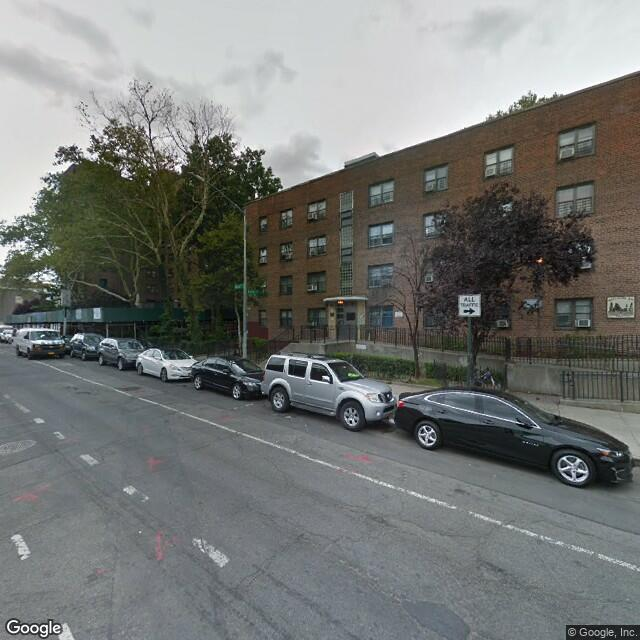litter: (281, 412, 302, 426)
